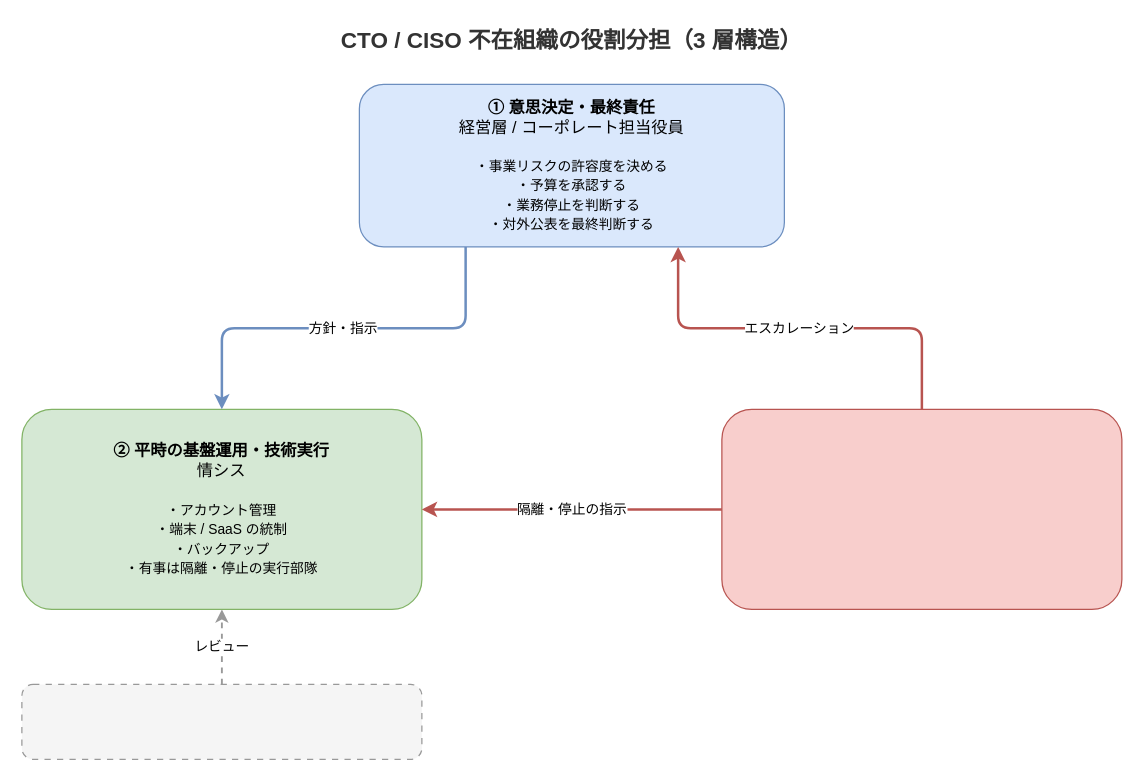
Some shapes in this 1144 by 781 pixel diagram are drawn without their labels. The box of each missing label's shape, as (x1, y1, x2, y2) in pixels:
③ 有事のトリアージ・横断調整 CSIRT（兼務チーム） ・コマンダー：隔離を即時に判断 ・PoC：法務・広報・外部機関と連絡 ・平時は情シス・総務・法務の兼務: (721, 408, 1122, 609)
外部技術顧問（外部 CISO） アーキテクチャ・セキュリティ方針を月次レビュー: (21, 683, 422, 759)
